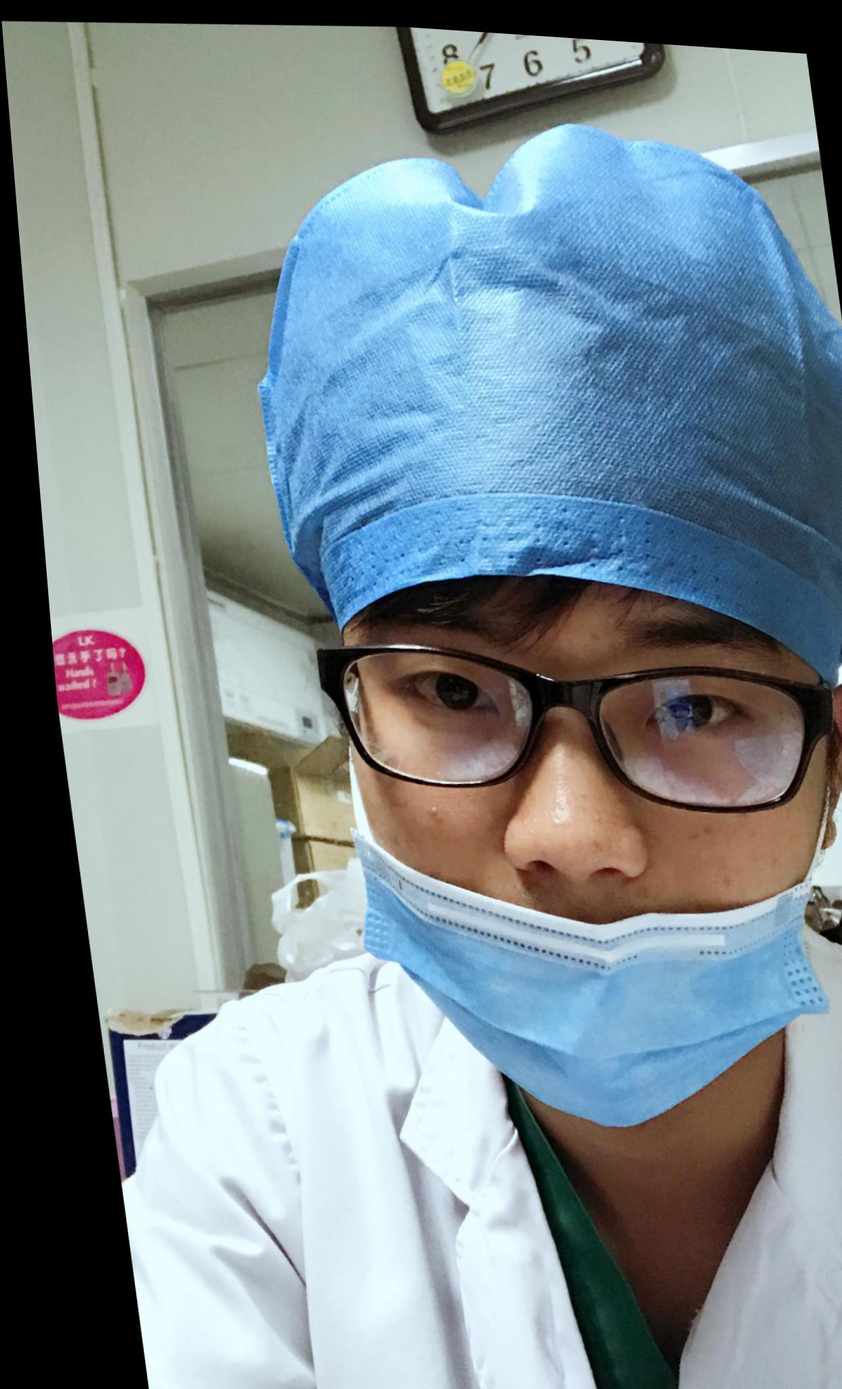WRONG: (235, 488, 842, 1142)
